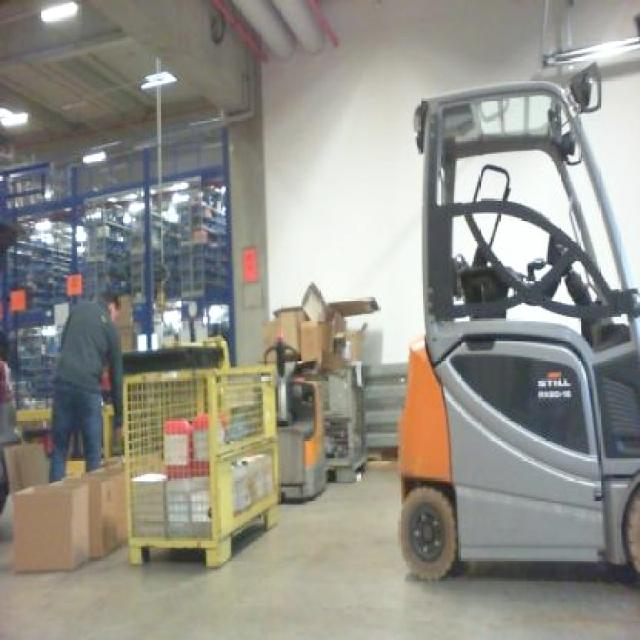pallets: (123, 366, 275, 563), (11, 463, 125, 569)
